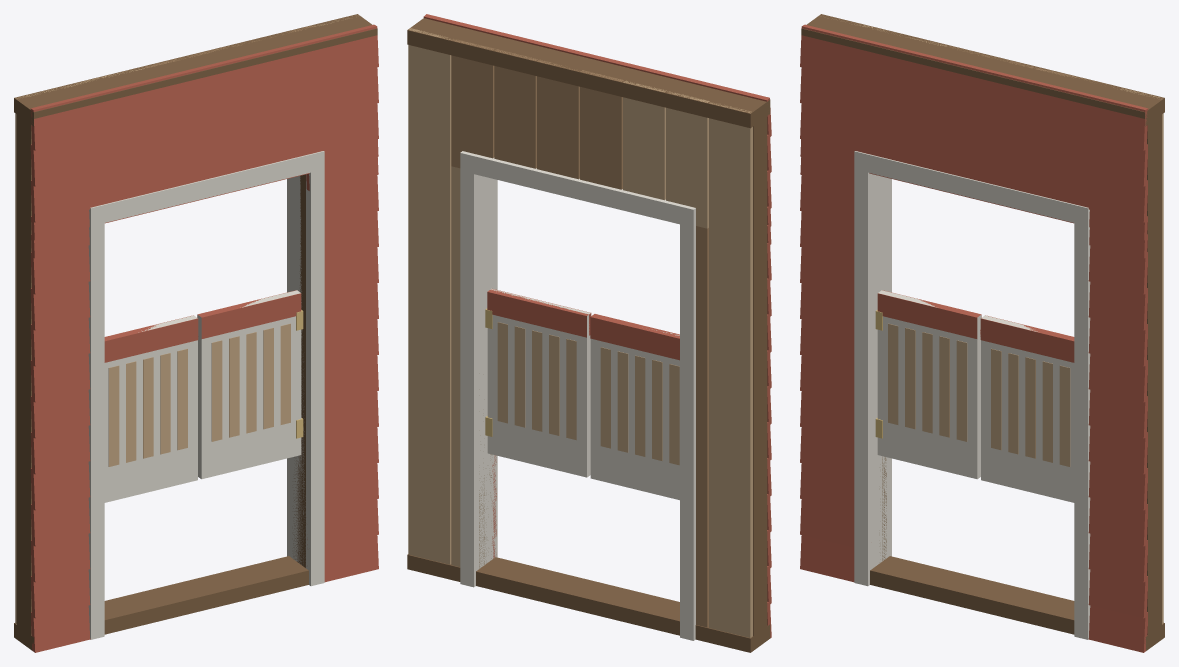
File: SM_Wall_Plank_SwingDoors.glb
3 renders of one model, left to right at view 1: azimuth 30°, elevation 25°; view 2: azimuth 150°, elevation 25°; view 3: azimuth 330°, elevation 25°, orthographic.
Parts seen in each view (by area): view 1: SM_Wall_Plank_SwingDoors; view 2: SM_Wall_Plank_SwingDoors; view 3: SM_Wall_Plank_SwingDoors.
Part boxes in pixels (x1=…): SM_Wall_Plank_SwingDoors: x1=14, y1=14, x2=378, y2=652; SM_Wall_Plank_SwingDoors: x1=407, y1=14, x2=771, y2=652; SM_Wall_Plank_SwingDoors: x1=800, y1=14, x2=1164, y2=652.
Bounding box in the file's own units: 2 × 3.01 × 0.24.
